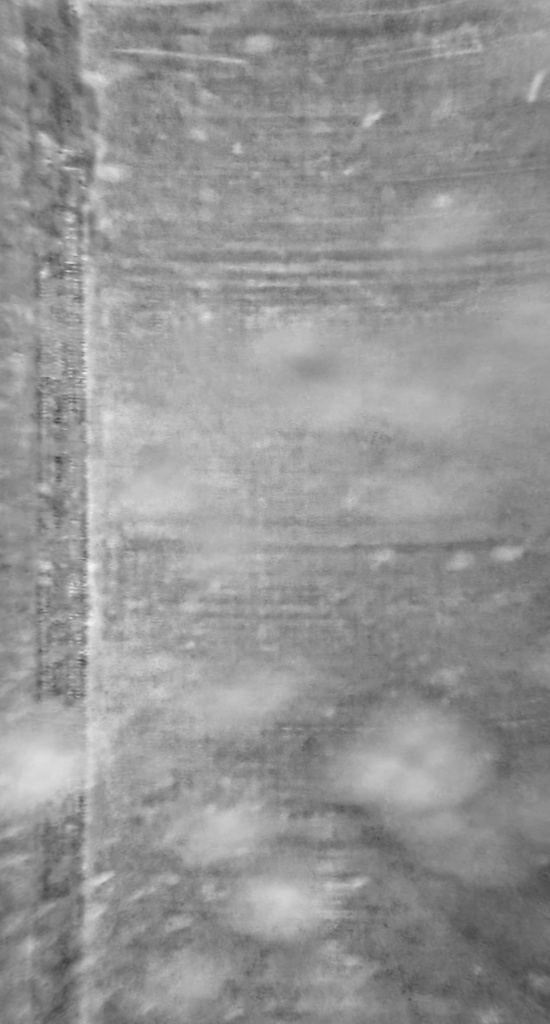splice: (7, 1, 110, 1023)
